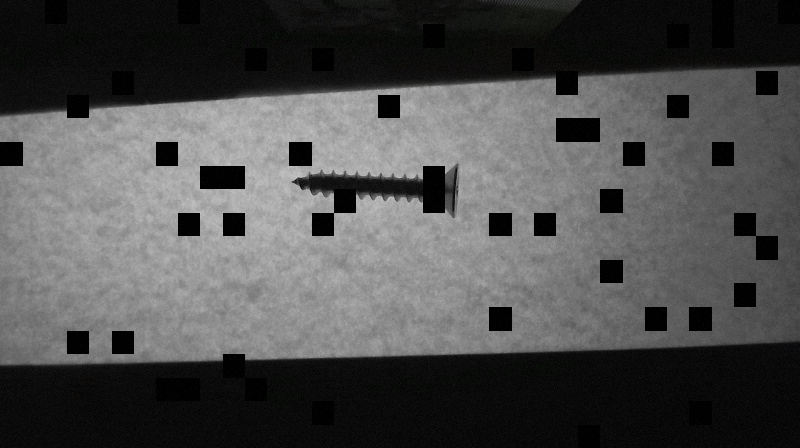S001: (289, 160, 464, 220)
